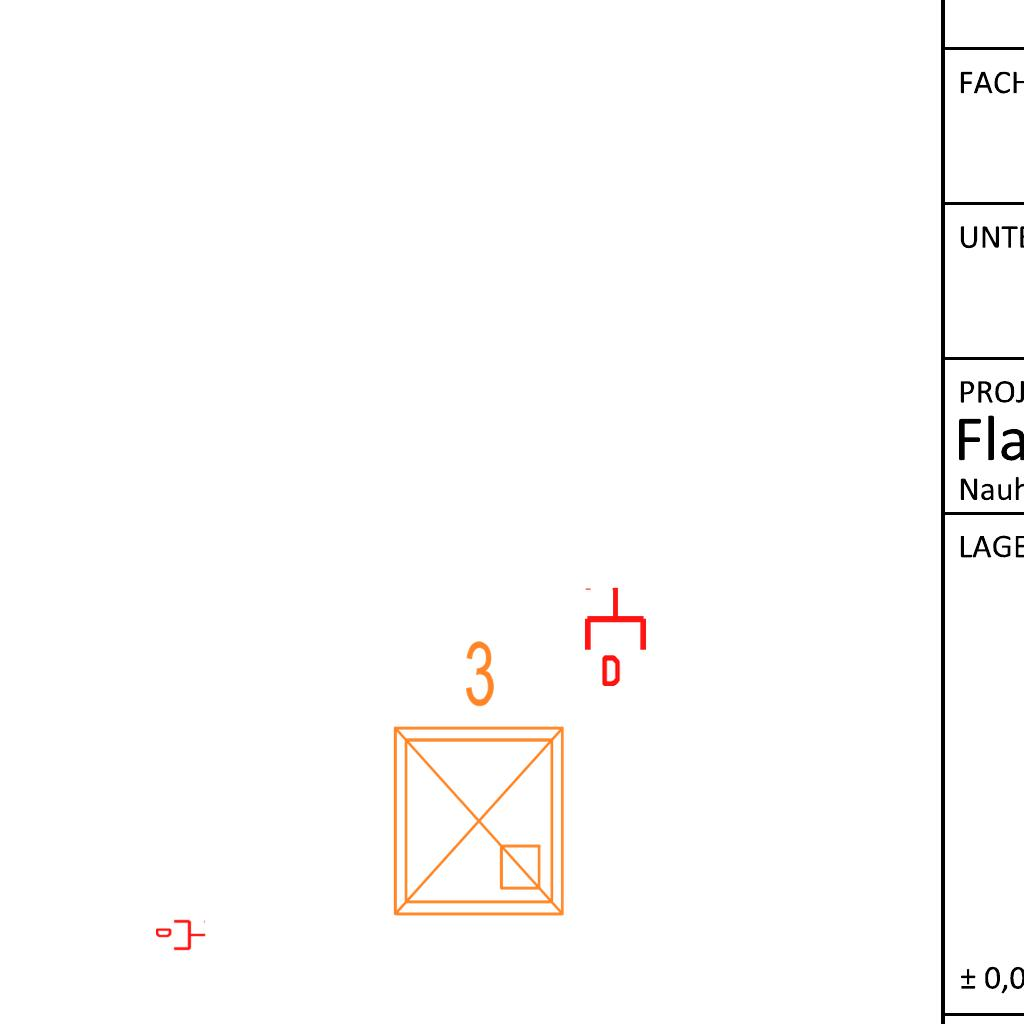Datenanschluss_einfach: (581, 586, 650, 686), (156, 918, 206, 952)
Einbaudownlights_LED_Konferenzraeume: (371, 630, 579, 930)
